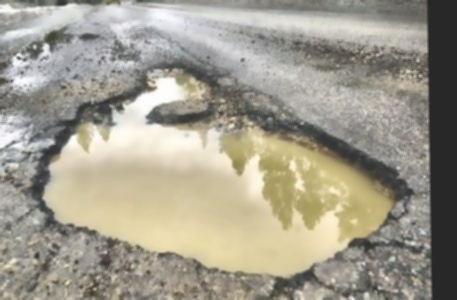pothole: (27, 57, 415, 287)
